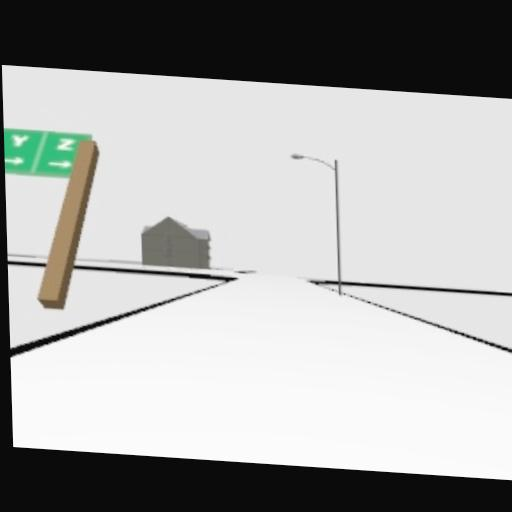Right: (48, 159, 71, 168), (5, 155, 25, 164)
Y: (11, 133, 29, 147)
Z: (56, 136, 74, 150)
